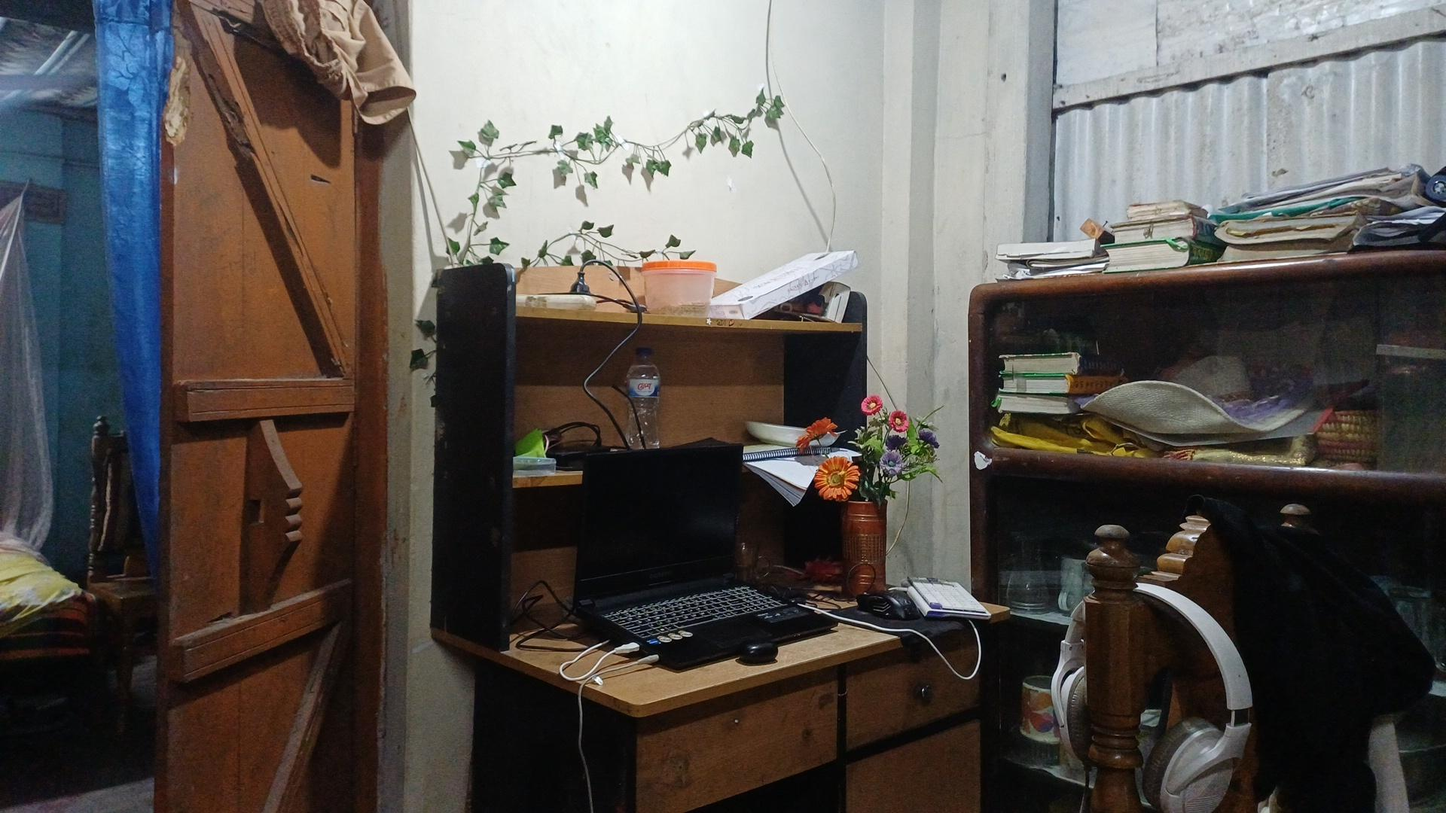Book: (1221, 209, 1396, 278), (994, 336, 1104, 425), (1106, 200, 1201, 283)
Bottle: (626, 333, 671, 454)
Box: (727, 272, 845, 335)
Door: (108, 21, 438, 782)
Food: (640, 234, 726, 328)
Keyboard: (914, 561, 1011, 624)
Laptop: (561, 438, 813, 658)
Mouse: (862, 580, 910, 624)
Plant: (797, 415, 914, 595)
Plate: (742, 404, 839, 459)
